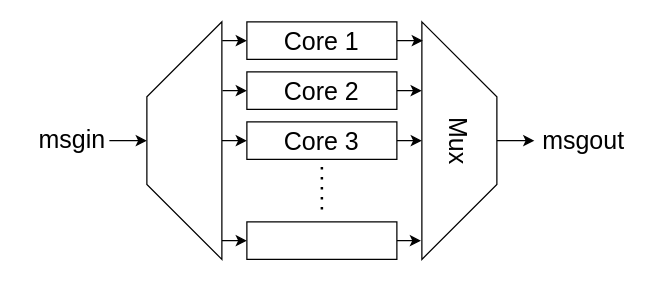
This 660x281 diagram has some shape labels left out. The box of each missing label's shape, as (x1, y1, x2, y2) in pixels:
Core n: (246, 221, 397, 259)
Scheduler: (146, 21, 222, 259)
